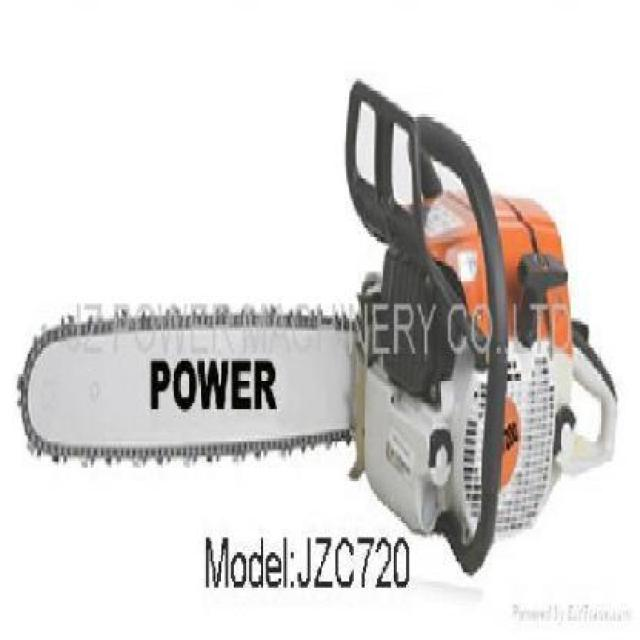Chainsaw: (17, 77, 620, 577)
